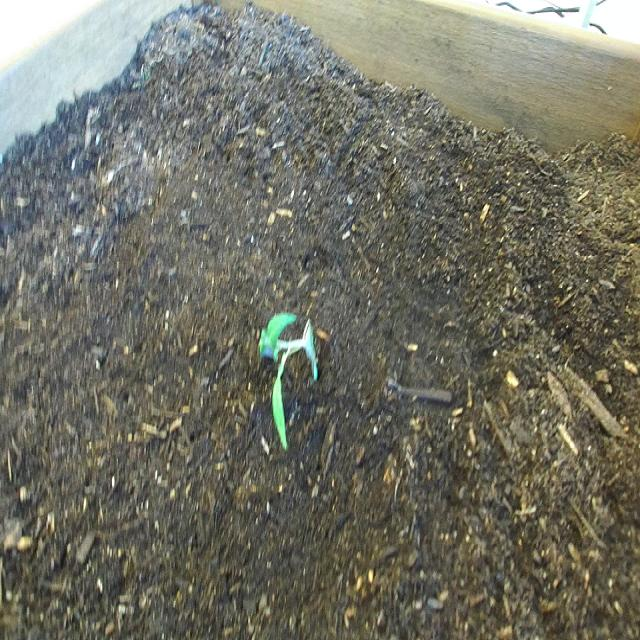Healthy: (244, 287, 330, 468)
